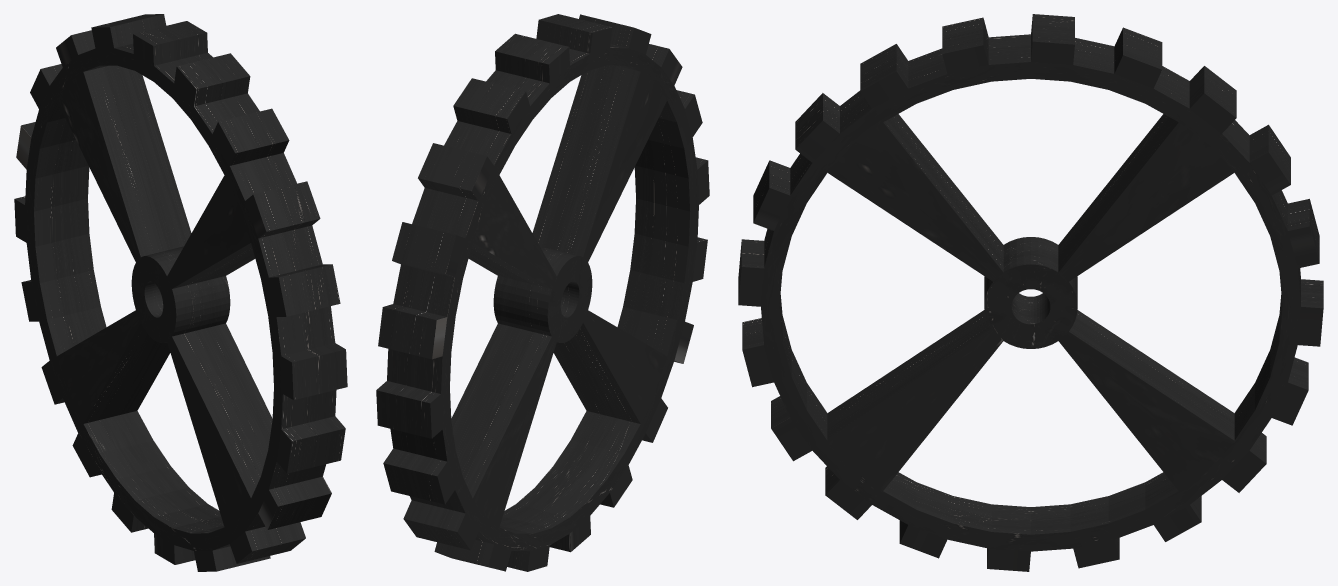
Rendered from MDL_Trolley Engrenagem.fbx.
3 renders of one model, left to right at view 1: azimuth 30°, elevation 25°; view 2: azimuth 150°, elevation 25°; view 3: azimuth 270°, elevation 25°, orthographic. The views are drawn at different scales.
Parts seen in each view (by area): view 1: Engrenagem1; view 2: Engrenagem1; view 3: Engrenagem1.
Boxes of the visible parts, <box> form: Engrenagem1: <box>14,14,347,571</box>; Engrenagem1: <box>376,14,709,571</box>; Engrenagem1: <box>738,14,1323,571</box>.
Bounding box in the file's own units: 0.25 × 2.24 × 2.24.
